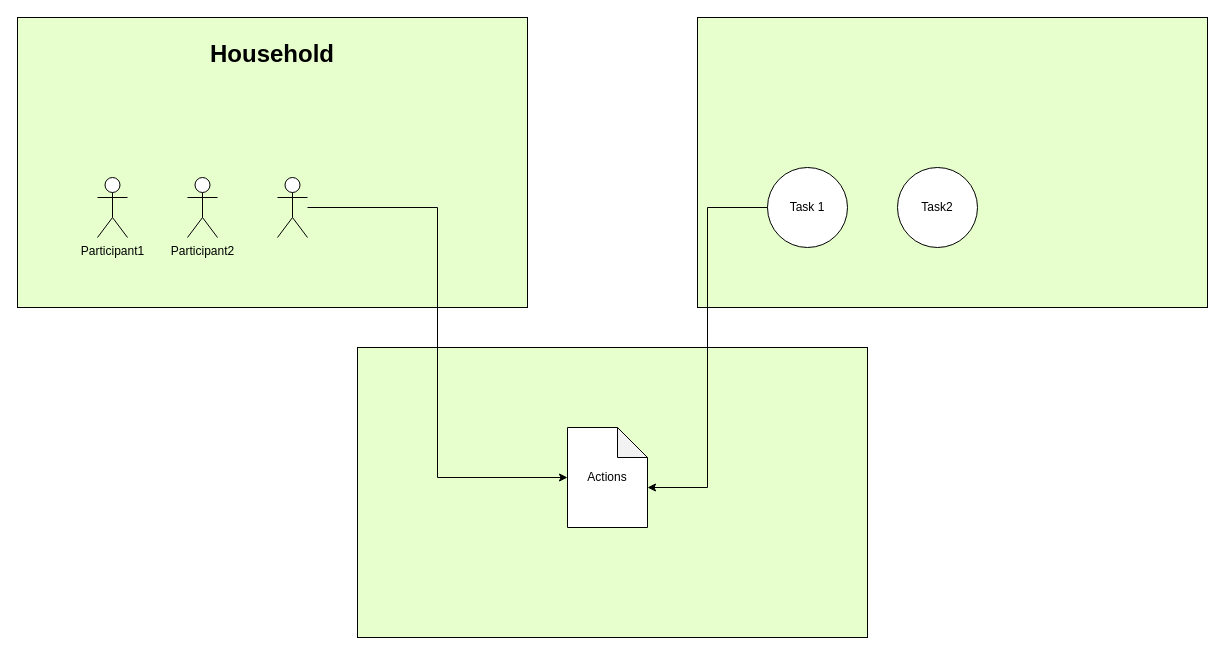
The diagram is 1225 pixels wide and 655 high, and some of its shapes have lost their labels. Here are the shapes that lost their labels. From the top down, the box of each, then its label:
(696, 16, 1208, 308): Tasks
(276, 176, 308, 238): Participant3
(356, 346, 868, 638): Taskboard
